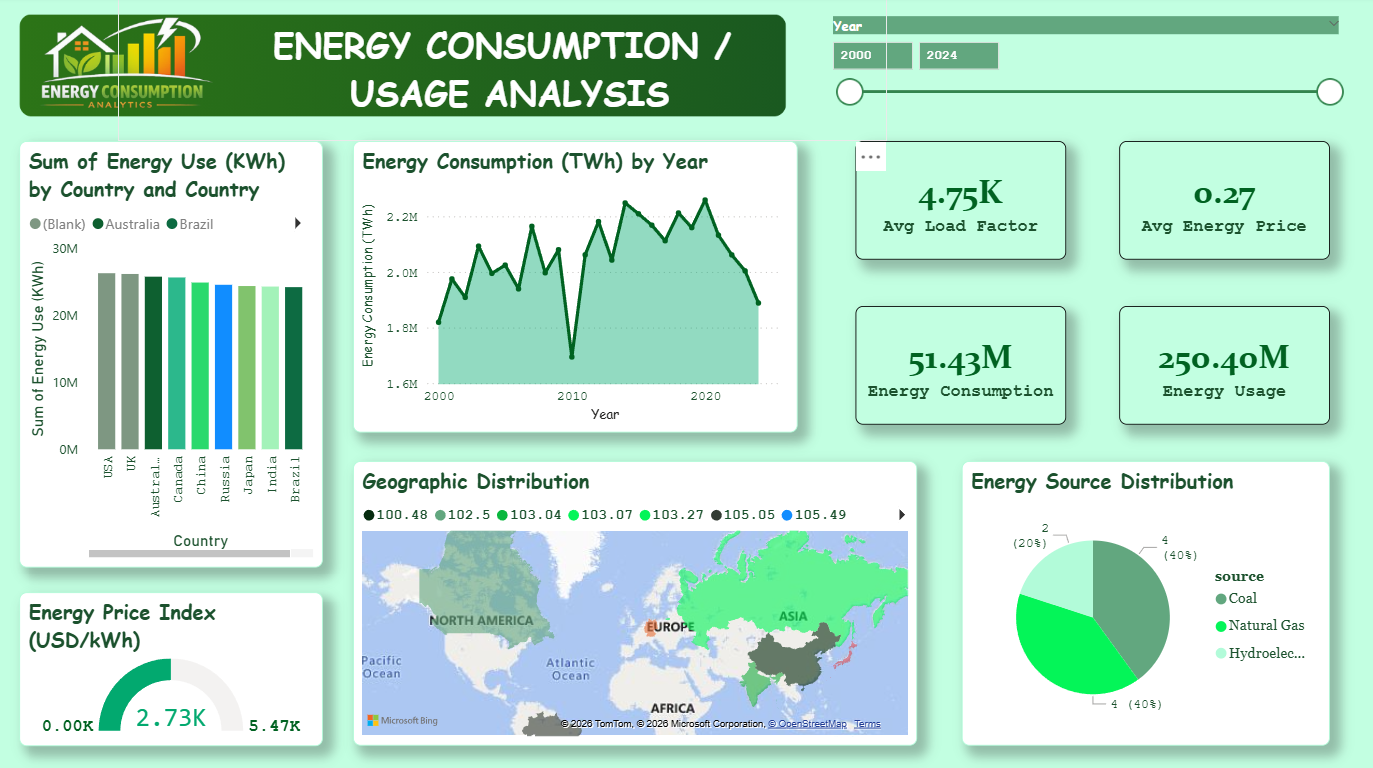

The dashboard page shown, as its layout file describes it:
{"tool":"powerbi","page":{"name":"Page 1","canvas":[1280,720],"ordinal":0},"visuals":[{"type":"lineChart","fields":{"Category":["global_energy_consumption.Year"],"Y":["Sum(global_energy_consumption.Total Energy Consumption (TWh))"]},"box":[330,135,413.8,271.2],"z":0},{"type":"columnChart","fields":{"Category":["global_energy_consumption.Country"],"Y":["Sum(global_energy_consumption.Per Capita Energy Use (kWh))"],"Series":["dominant_electricity_source_by_country.Country"]},"box":[19.8,134.9,282.6,396.5],"z":1000},{"type":"pieChart","title":"Energy Source Distribution","fields":{"Y":["CountNonNull(dominant_electricity_source_by_country.Country)"],"Category":["dominant_electricity_source_by_country.source"]},"box":[896.2,432.5,342.5,265],"z":2000},{"type":"gauge","fields":{"Y":["Sum(global_energy_consumption.Energy Price Index (USD/kWh))"]},"box":[19.8,554.7,282.6,143],"z":3000},{"type":"card","fields":{"Values":["Sum(global_energy_consumption.Average load_factor)"]},"box":[797.5,135,196.2,110],"z":4000},{"type":"card","fields":{"Values":["global_energy_consumption.Average_ENERGY_PRICE_INDEX(USD/KWh)"]},"box":[1042.5,135,196.2,110],"z":5000},{"type":"card","fields":{"Values":["Sum(global_energy_consumption.Total Energy Consumption (TWh))"]},"box":[797.5,288.8,196.2,110],"z":6000},{"type":"card","fields":{"Values":["Sum(global_energy_consumption.Per Capita Energy Use (kWh))"]},"box":[1042.5,288.8,196.2,110],"z":7000},{"type":"filledMap","title":"Geographic Distribution","fields":{"Category":["dominant_electricity_source_by_country.Country"],"Series":["global_energy_consumption.Total Energy Consumption (TWh)"]},"box":[330,432.5,525,265],"z":8000},{"type":"slicer","fields":{"Values":["global_energy_consumption.Year"]},"box":[763.8,13.8,496.2,100],"z":9000},{"type":"textbox","box":[111.2,0,715,135],"z":10000}]}

Visuals, with their boxes in screenshot pixels (x1, y1, x2, y2), scaled from the page's 1280x720 canvas onto the 1373x768 screenshot:
lineChart - global_energy_consumption.Year x Sum(global_energy_consumption.Total Energy Consumption (TWh)): box(354, 144, 798, 433)
columnChart - global_energy_consumption.Country x Sum(global_energy_consumption.Per Capita Energy Use (kWh)): box(21, 144, 324, 567)
"Energy Source Distribution" pieChart: box(961, 461, 1329, 744)
gauge - Sum(global_energy_consumption.Energy Price Index (USD/kWh)): box(21, 592, 324, 744)
card - Sum(global_energy_consumption.Average load_factor): box(855, 144, 1066, 261)
card - global_energy_consumption.Average_ENERGY_PRICE_INDEX(USD/KWh): box(1118, 144, 1329, 261)
card - Sum(global_energy_consumption.Total Energy Consumption (TWh)): box(855, 308, 1066, 425)
card - Sum(global_energy_consumption.Per Capita Energy Use (kWh)): box(1118, 308, 1329, 425)
"Geographic Distribution" filledMap: box(354, 461, 917, 744)
slicer - global_energy_consumption.Year: box(819, 15, 1352, 121)
textbox: box(119, 0, 886, 144)
